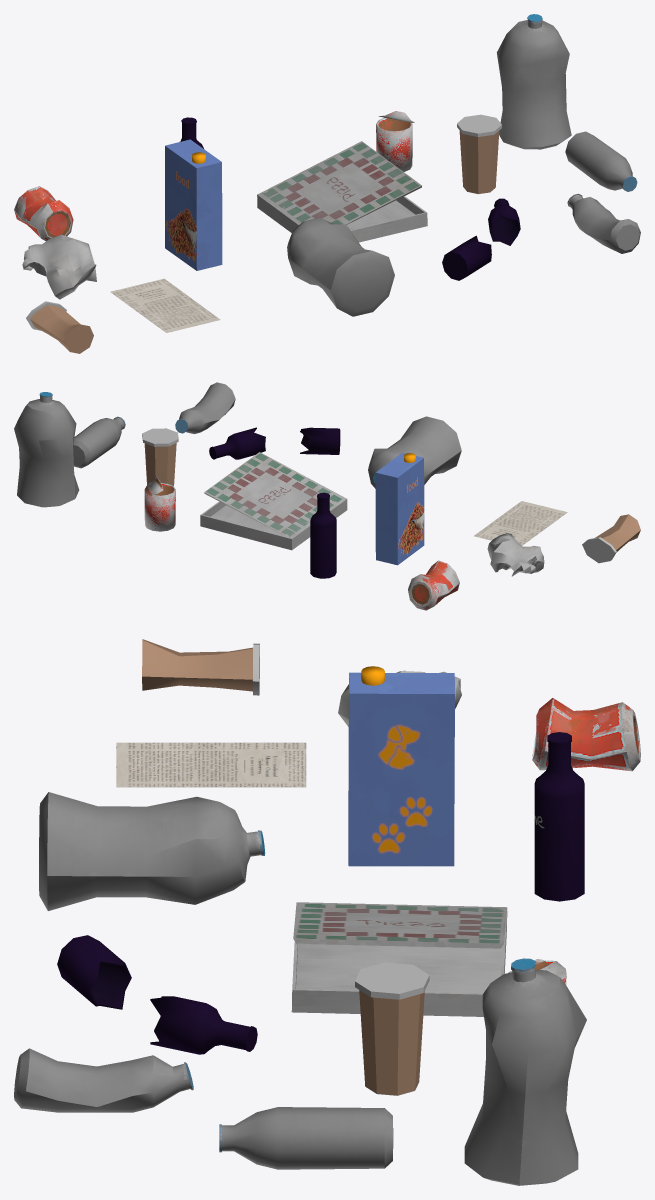
The model's file is cgtrader_optimized_trashes.fbx.
The picture shows the model from 3 angles, top to bottom: view 1: azimuth 30°, elevation 25°; view 2: azimuth 150°, elevation 25°; view 3: azimuth 270°, elevation 25°; orthographic projection. The views are drawn at different scales.
Visible parts, largest first — view 1: trashes.001, trashes.004, trashes.016, trashes.015, trashes.002, trashes, trashes.005, trashes.007, trashes.009, trashes.013, trashes.020, trashes.012 (+1 smaller); view 2: trashes.001, trashes.004, trashes.015, trashes.016, trashes.007, trashes.002, trashes.006, trashes.013, trashes.005, trashes.009, trashes, trashes.020 (+2 smaller); view 3: trashes.015, trashes.016, trashes.004, trashes.001, trashes.009, trashes.002, trashes.013, trashes.005, trashes.007, trashes.006, trashes.020, trashes.012.
Part boxes in pixels (x1,y1,x2,y2): trashes.001: [257, 141, 427, 242]; trashes.004: [496, 14, 571, 149]; trashes.016: [287, 218, 394, 316]; trashes.015: [165, 139, 222, 270]; trashes.002: [110, 278, 220, 332]; trashes: [22, 234, 96, 299]; trashes.005: [457, 114, 501, 194]; trashes.007: [442, 198, 520, 280]; trashes.009: [565, 131, 637, 191]; trashes.013: [567, 193, 640, 253]; trashes.020: [14, 186, 73, 241]; trashes.012: [26, 301, 93, 353]; trashes.001: [200, 452, 347, 550]; trashes.004: [14, 392, 79, 507]; trashes.015: [375, 452, 424, 565]; trashes.016: [368, 416, 461, 488]; trashes.007: [209, 427, 340, 459]; trashes.002: [474, 501, 567, 545]; trashes.006: [310, 492, 336, 578]; trashes.013: [175, 382, 235, 433]; trashes.005: [142, 428, 178, 485]; trashes.009: [73, 416, 125, 468]; trashes: [487, 533, 544, 576]; trashes.020: [408, 560, 459, 610]; trashes.015: [348, 666, 454, 866]; trashes.016: [39, 792, 265, 910]; trashes.004: [464, 958, 586, 1185]; trashes.001: [291, 902, 507, 1016]; trashes.009: [219, 1107, 393, 1169]; trashes.002: [116, 742, 306, 787]; trashes.013: [14, 1048, 193, 1112]; trashes.005: [355, 962, 429, 1095]; trashes.007: [57, 935, 257, 1054]; trashes.006: [534, 732, 584, 901]; trashes.020: [532, 698, 640, 771]; trashes.012: [142, 639, 259, 695].
Bounding box in the file's own units: 3.22 × 0.6102 × 1.68.
